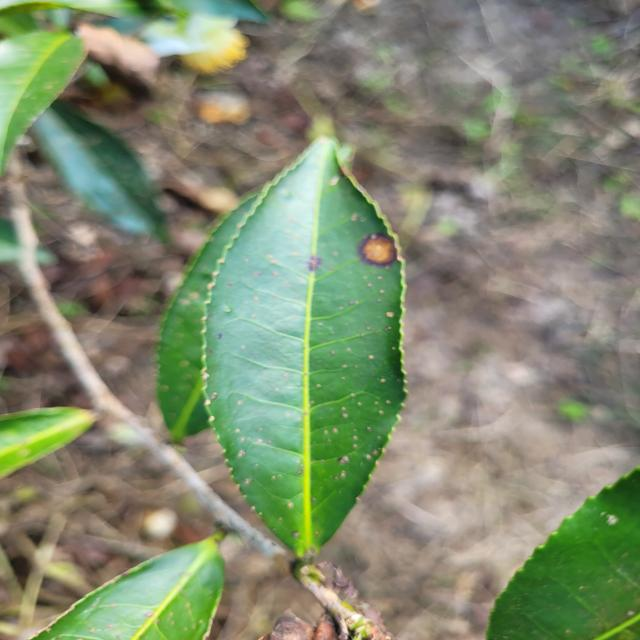Category D(7+ days, Not for Tea): (191, 130, 433, 572)
